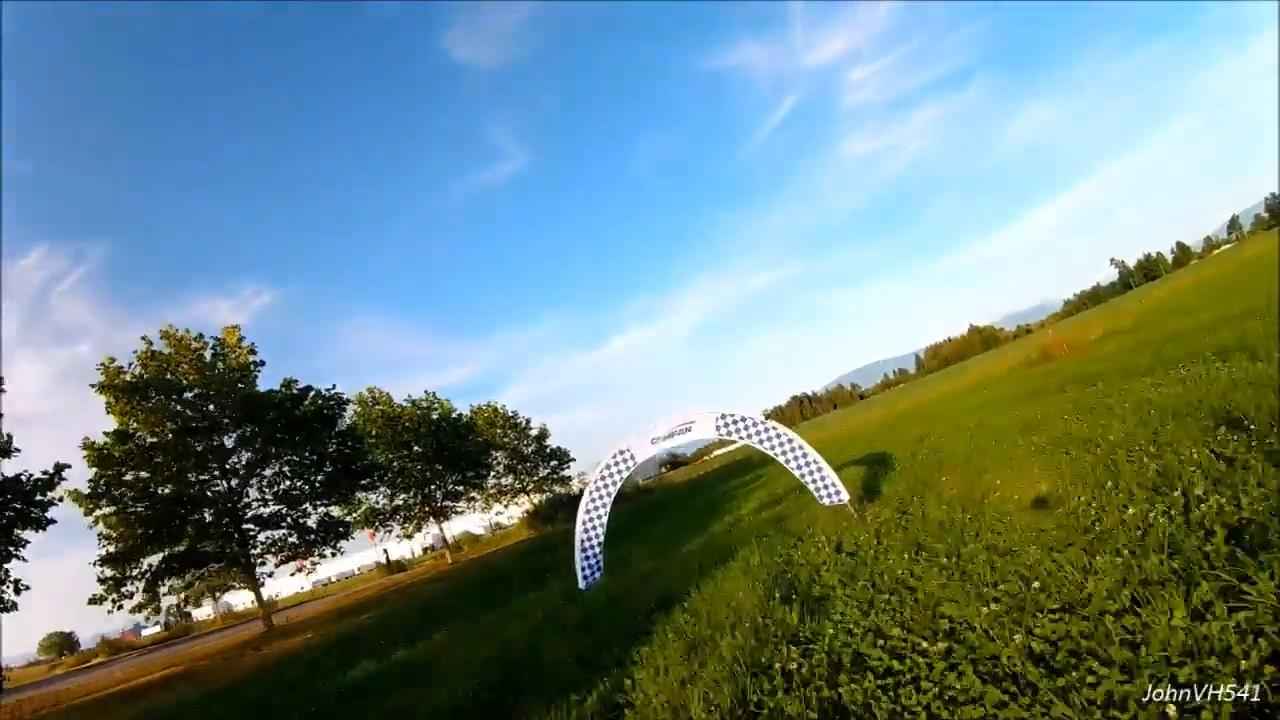gate: (568, 409, 849, 588)
